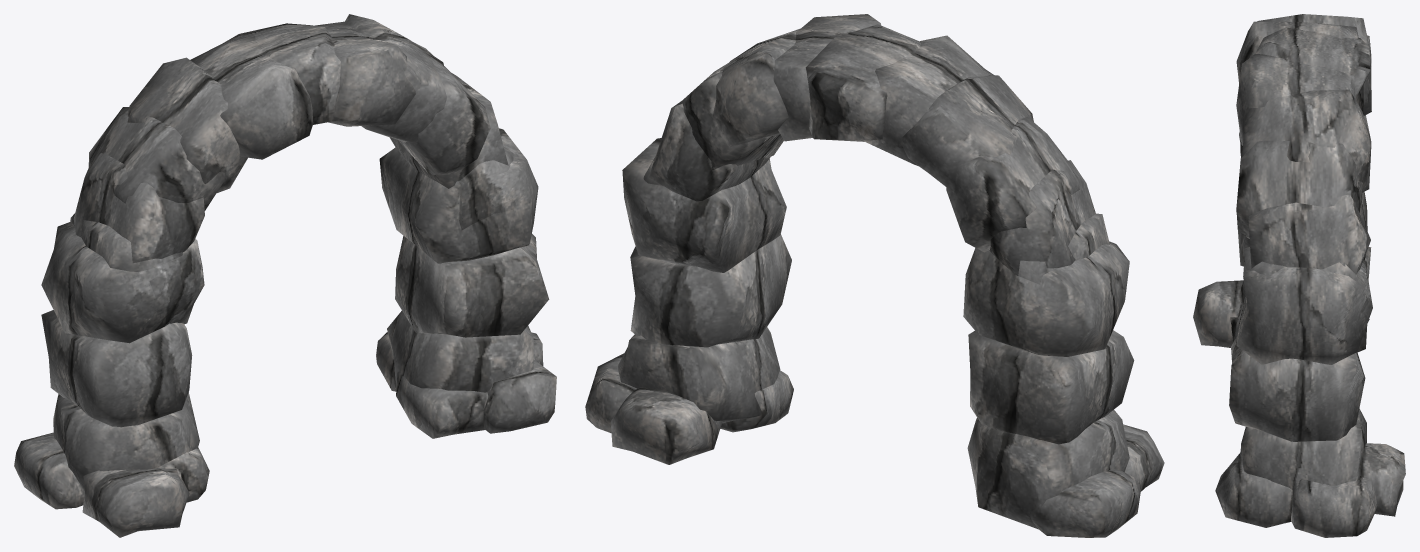
Rendered from stone-arch.glb.
The picture shows the model from 3 angles, left to right: view 1: azimuth 30°, elevation 25°; view 2: azimuth 150°, elevation 25°; view 3: azimuth 270°, elevation 25°; orthographic projection. The views are drawn at different scales.
Parts seen in each view (by area): view 1: StackedArch; view 2: StackedArch; view 3: StackedArch.
Part boxes in pixels (<box>): StackedArch: <box>14,14,556,537</box>; StackedArch: <box>585,14,1164,537</box>; StackedArch: <box>1193,14,1405,537</box>.
Bounding box in the file's own units: 0.2746 × 0.2096 × 0.1054.
1 material, 1 textured.
